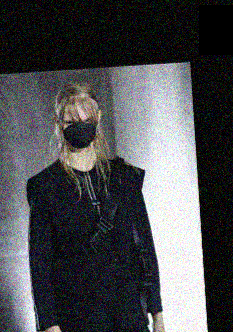with_mask: (60, 113, 99, 148)
